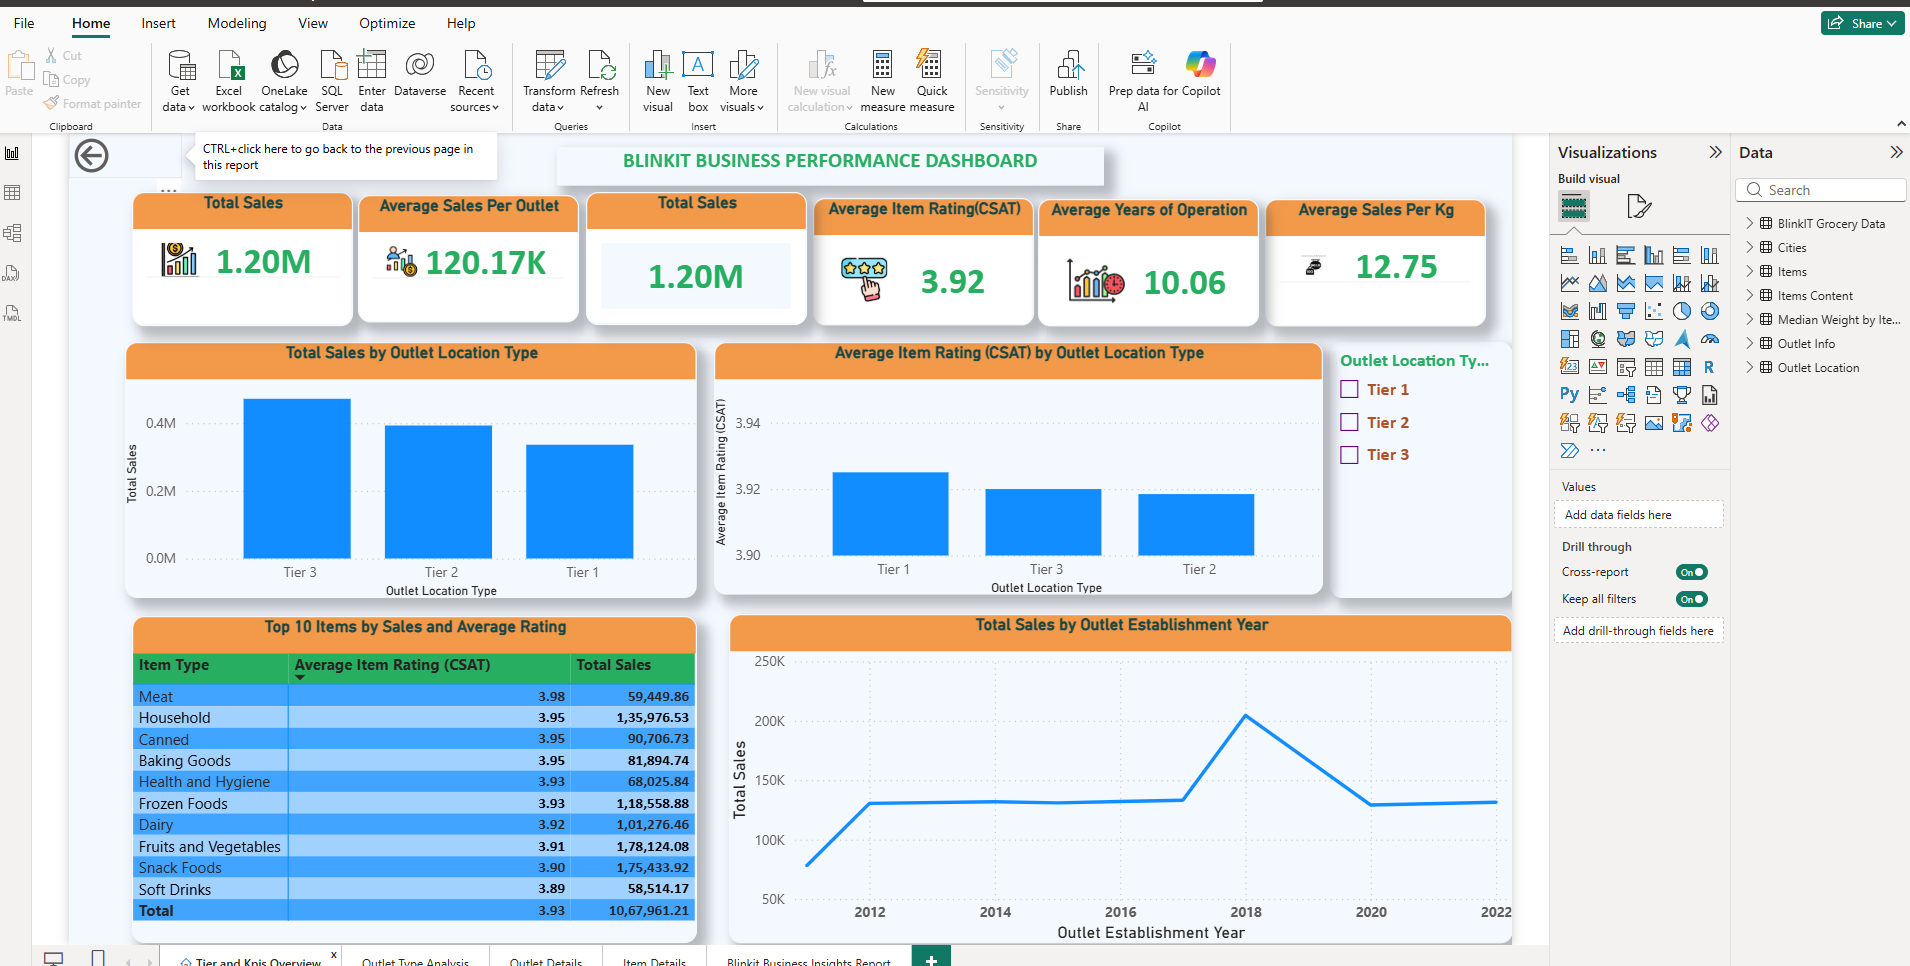

The dashboard page shown, as its layout file describes it:
{"tool":"powerbi","page":{"name":"Tier and Kpis Overview","canvas":[1280,720],"ordinal":0},"visuals":[{"type":"cardVisual","title":"Total Sales","fields":{"Data":["BlinkIT Grocery Data.Total Sales Fixed"]},"box":[16,84,168,103],"z":0,"group":"g1"},{"type":"cardVisual","title":"Average Sales Per Outlet","fields":{"Data":["Outlet Info.Average Sales per Outlet"]},"box":[214,84,195,103],"z":1000,"group":"g1"},{"type":"cardVisual","title":"Average Item Rating(CSAT)","fields":{"Data":["BlinkIT Grocery Data.Average Item Rating (CSAT)"]},"box":[640,82,170,102],"z":2000,"group":"g1"},{"type":"clusteredColumnChart","fields":{"Y":["BlinkIT Grocery Data.Total Sales"],"Category":["Outlet Location.Outlet Location Type"]},"box":[481,471,318,227],"z":3000},{"type":"cardVisual","title":"Average Sales Per Kg","fields":{"Data":["Avg(BlinkIT Grocery Data.Sales per Kg)"]},"box":[1054,83,188,106],"z":4000,"group":"g1"},{"type":"textbox","title":" BLINKIT BUSINESS PERFORMANCE DASHBOARD ","box":[432.3,12.3,484.6,33.8],"z":5000},{"type":"cardVisual","title":"Average Years of Operation","fields":{"Data":["Avg(Outlet Info.Years of Operation)"]},"box":[857,80,190,107],"z":6000,"group":"g1"},{"type":"slicer","fields":{"Values":["Outlet Location.Outlet Location Type"]},"box":[28,256,167,124],"z":7000},{"type":"actionButton","box":[0,0,100,40],"z":8000},{"type":"cardVisual","title":"Total Sales","fields":{"Data":["BlinkIT Grocery Data.Total Sales"]},"box":[434.2,80,181.8,103.6],"z":9000,"group":"g1"},{"type":"columnChart","fields":{"Category":["Outlet Location.Outlet Location Type"],"Y":["BlinkIT Grocery Data.Average Item Rating (CSAT)"]},"box":[64,471,345,249],"z":10000},{"type":"lineChart","fields":{"Category":["Outlet Info.Outlet Establishment Year"],"Y":["BlinkIT Grocery Data.Total Sales"]},"box":[259,211,573,247],"z":11000},{"type":"pivotTable","title":"Top 10 Items by Sales and Average Rating","fields":{"Rows":["Items.Item Type"],"Values":["BlinkIT Grocery Data.Average Item Rating (CSAT)","BlinkIT Grocery Data.Total Sales"]},"box":[873.8,219.2,406,292],"z":12000},{"type":"group","id":"g1","title":"Group 1","box":[16,80,1226,109],"z":12001}]}

Visuals, with their boxes on the page's 1280x720 design canvas (x1, y1, x2, y2). These are canvas units, not pixel positions in the 1910x966 screenshot, which may show the page scaled, cropped or inside an application window:
"Total Sales" cardVisual: (16,84,184,187)
"Average Sales Per Outlet" cardVisual: (214,84,409,187)
"Average Item Rating(CSAT)" cardVisual: (640,82,810,184)
clusteredColumnChart - BlinkIT Grocery Data.Total Sales x Outlet Location.Outlet Location Type: (481,471,799,698)
"Average Sales Per Kg" cardVisual: (1054,83,1242,189)
" BLINKIT BUSINESS PERFORMANCE DASHBOARD " textbox: (432,12,917,46)
"Average Years of Operation" cardVisual: (857,80,1047,187)
slicer - Outlet Location.Outlet Location Type: (28,256,195,380)
actionButton: (0,0,100,40)
"Total Sales" cardVisual: (434,80,616,184)
columnChart - Outlet Location.Outlet Location Type x BlinkIT Grocery Data.Average Item Rating (CSAT): (64,471,409,720)
lineChart - Outlet Info.Outlet Establishment Year x BlinkIT Grocery Data.Total Sales: (259,211,832,458)
"Top 10 Items by Sales and Average Rating" pivotTable: (874,219,1280,511)
"Group 1" group: (16,80,1242,189)
